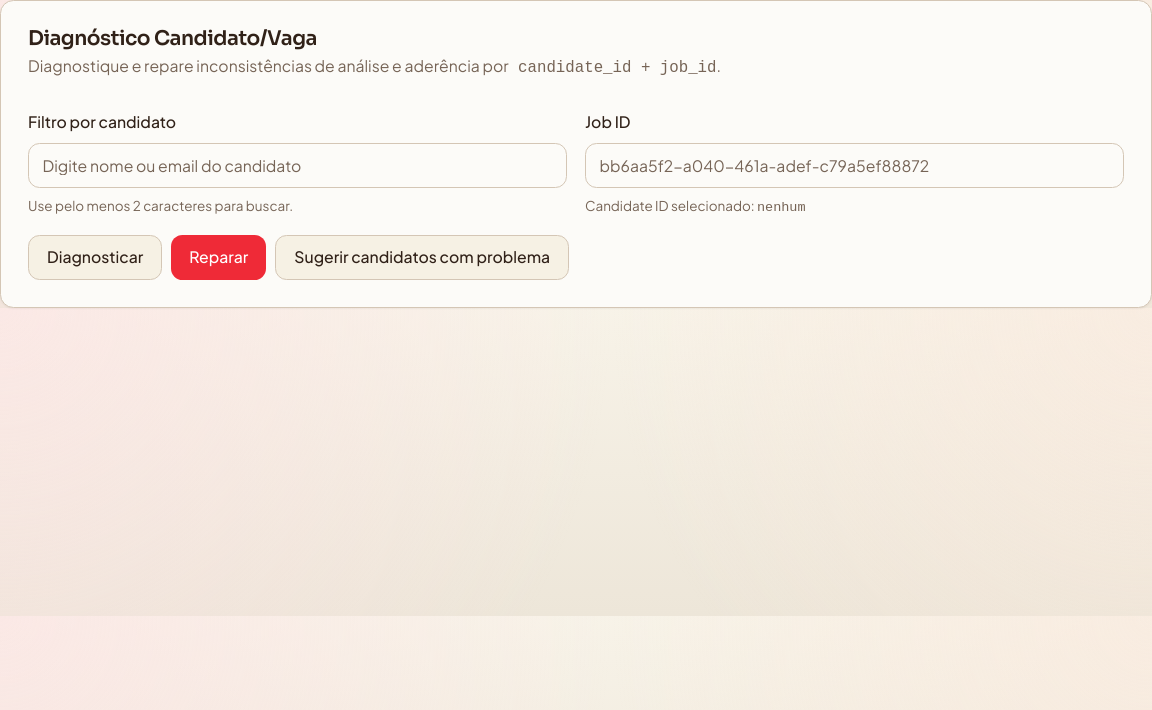
it: CandidateJobFlowDiagnosticsCard › atualiza diagnóstico após repair
Type "Alice" into the field labelled "Filtro por candidato" at (298, 165), box [28, 142, 567, 188]
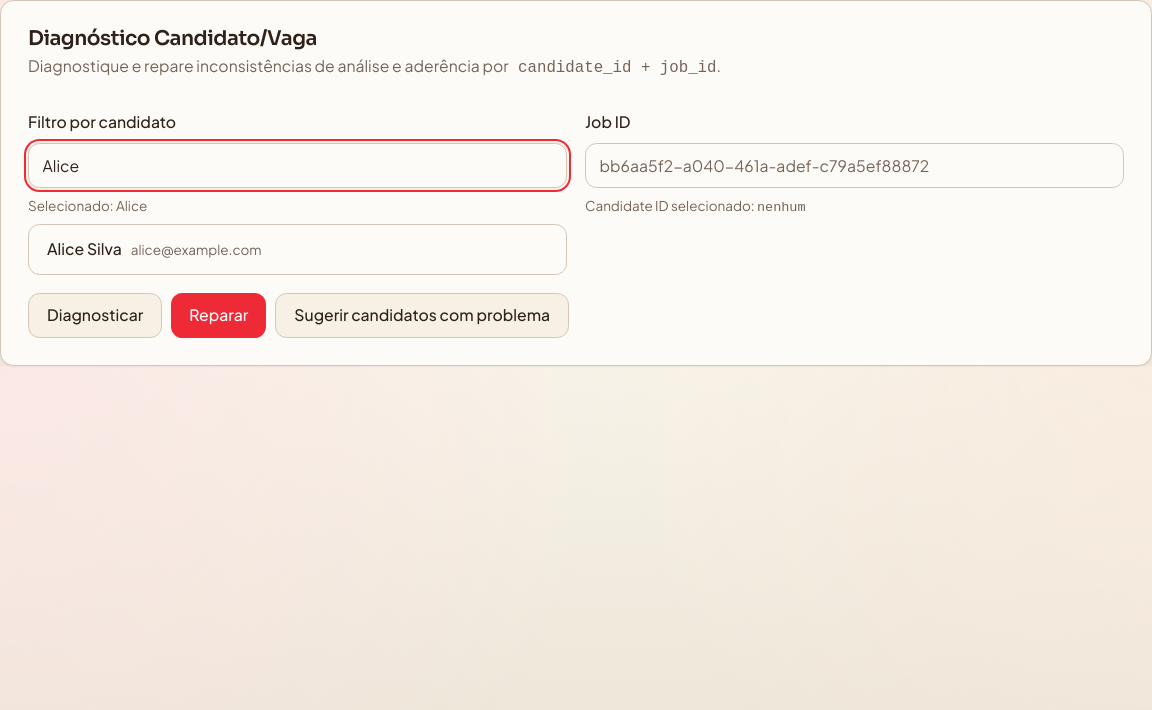
Click the button "Alice Silva" at (84, 248), box [38, 234, 557, 265]
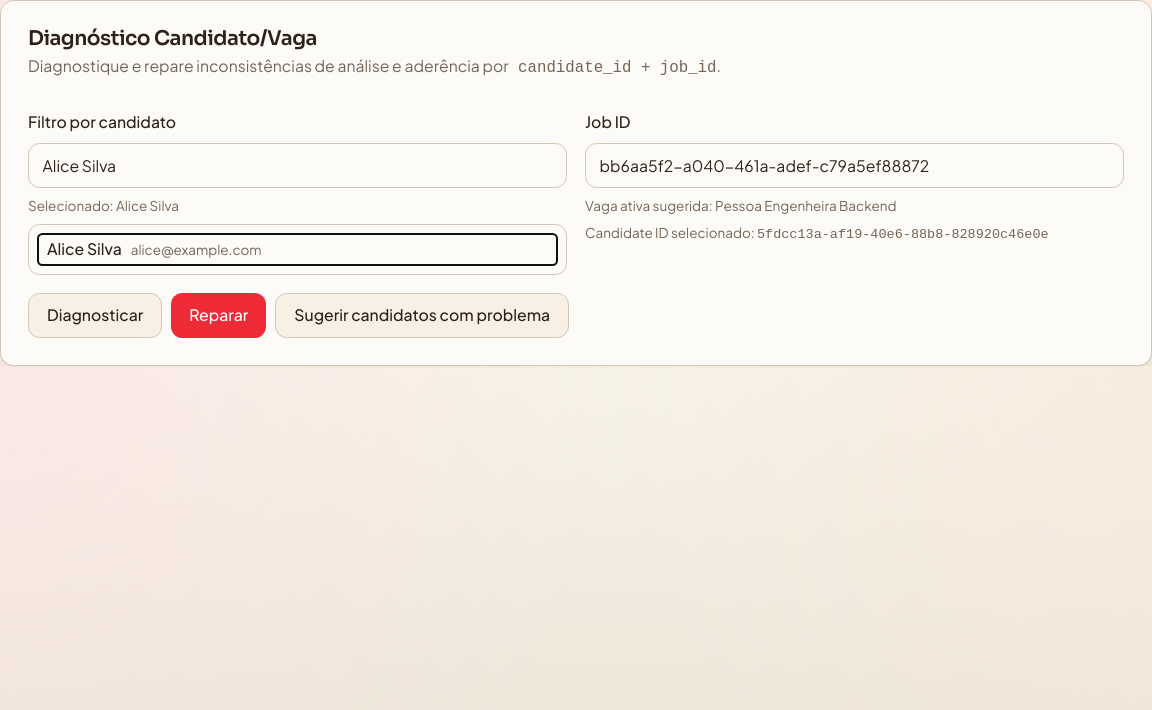
Now the field labelled "Job ID" holds "bb6aa5f2-a040-461a-adef-c79a5ef88872", box [585, 142, 1124, 188]
Click the button "Diagnosticar" at (95, 316), box [28, 293, 162, 338]
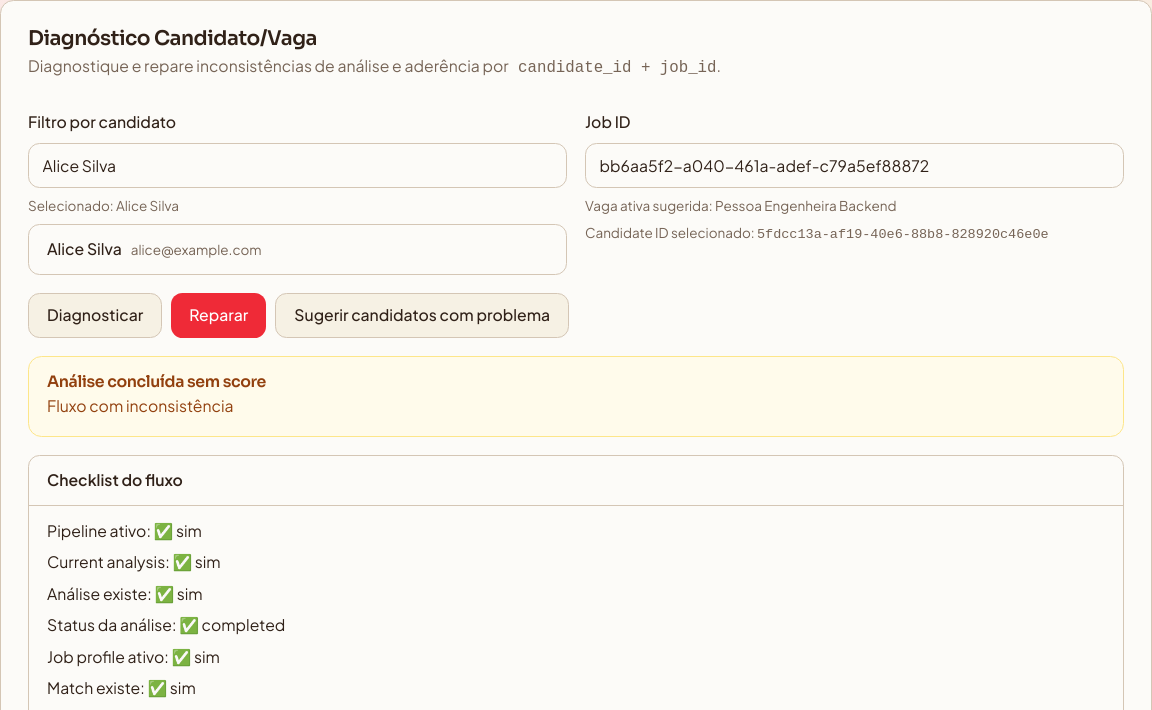
Now the heading "Análise concluída sem score" is shown, box [47, 372, 266, 392]
Click the button "Reparar" at (219, 316), box [171, 293, 266, 338]
(page scrolled)
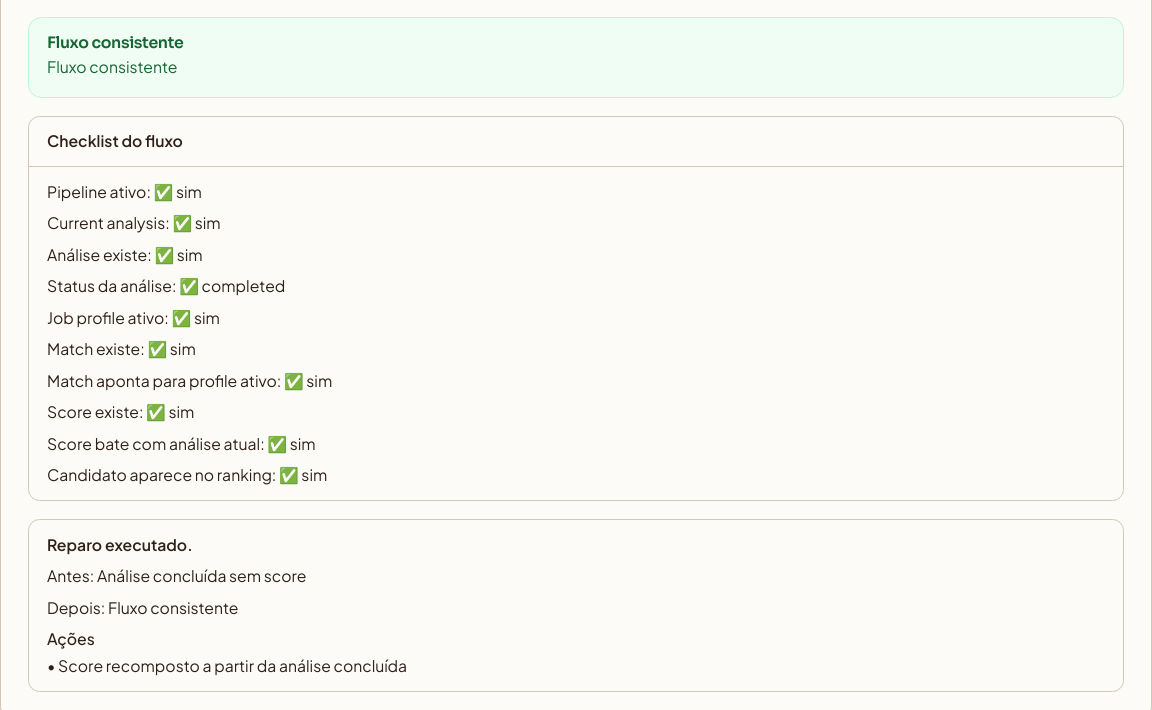
Now the text "Depois: Fluxo consistente" is shown, box [47, 598, 239, 617]
